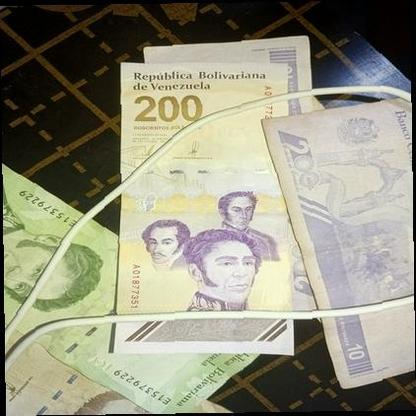fifty-front-vef: (0, 160, 276, 414)
five-front-vef: (4, 301, 235, 416)
ten-back-vef: (144, 44, 326, 320), (262, 97, 416, 388)
two_hundred-front-vef: (114, 63, 296, 357)
